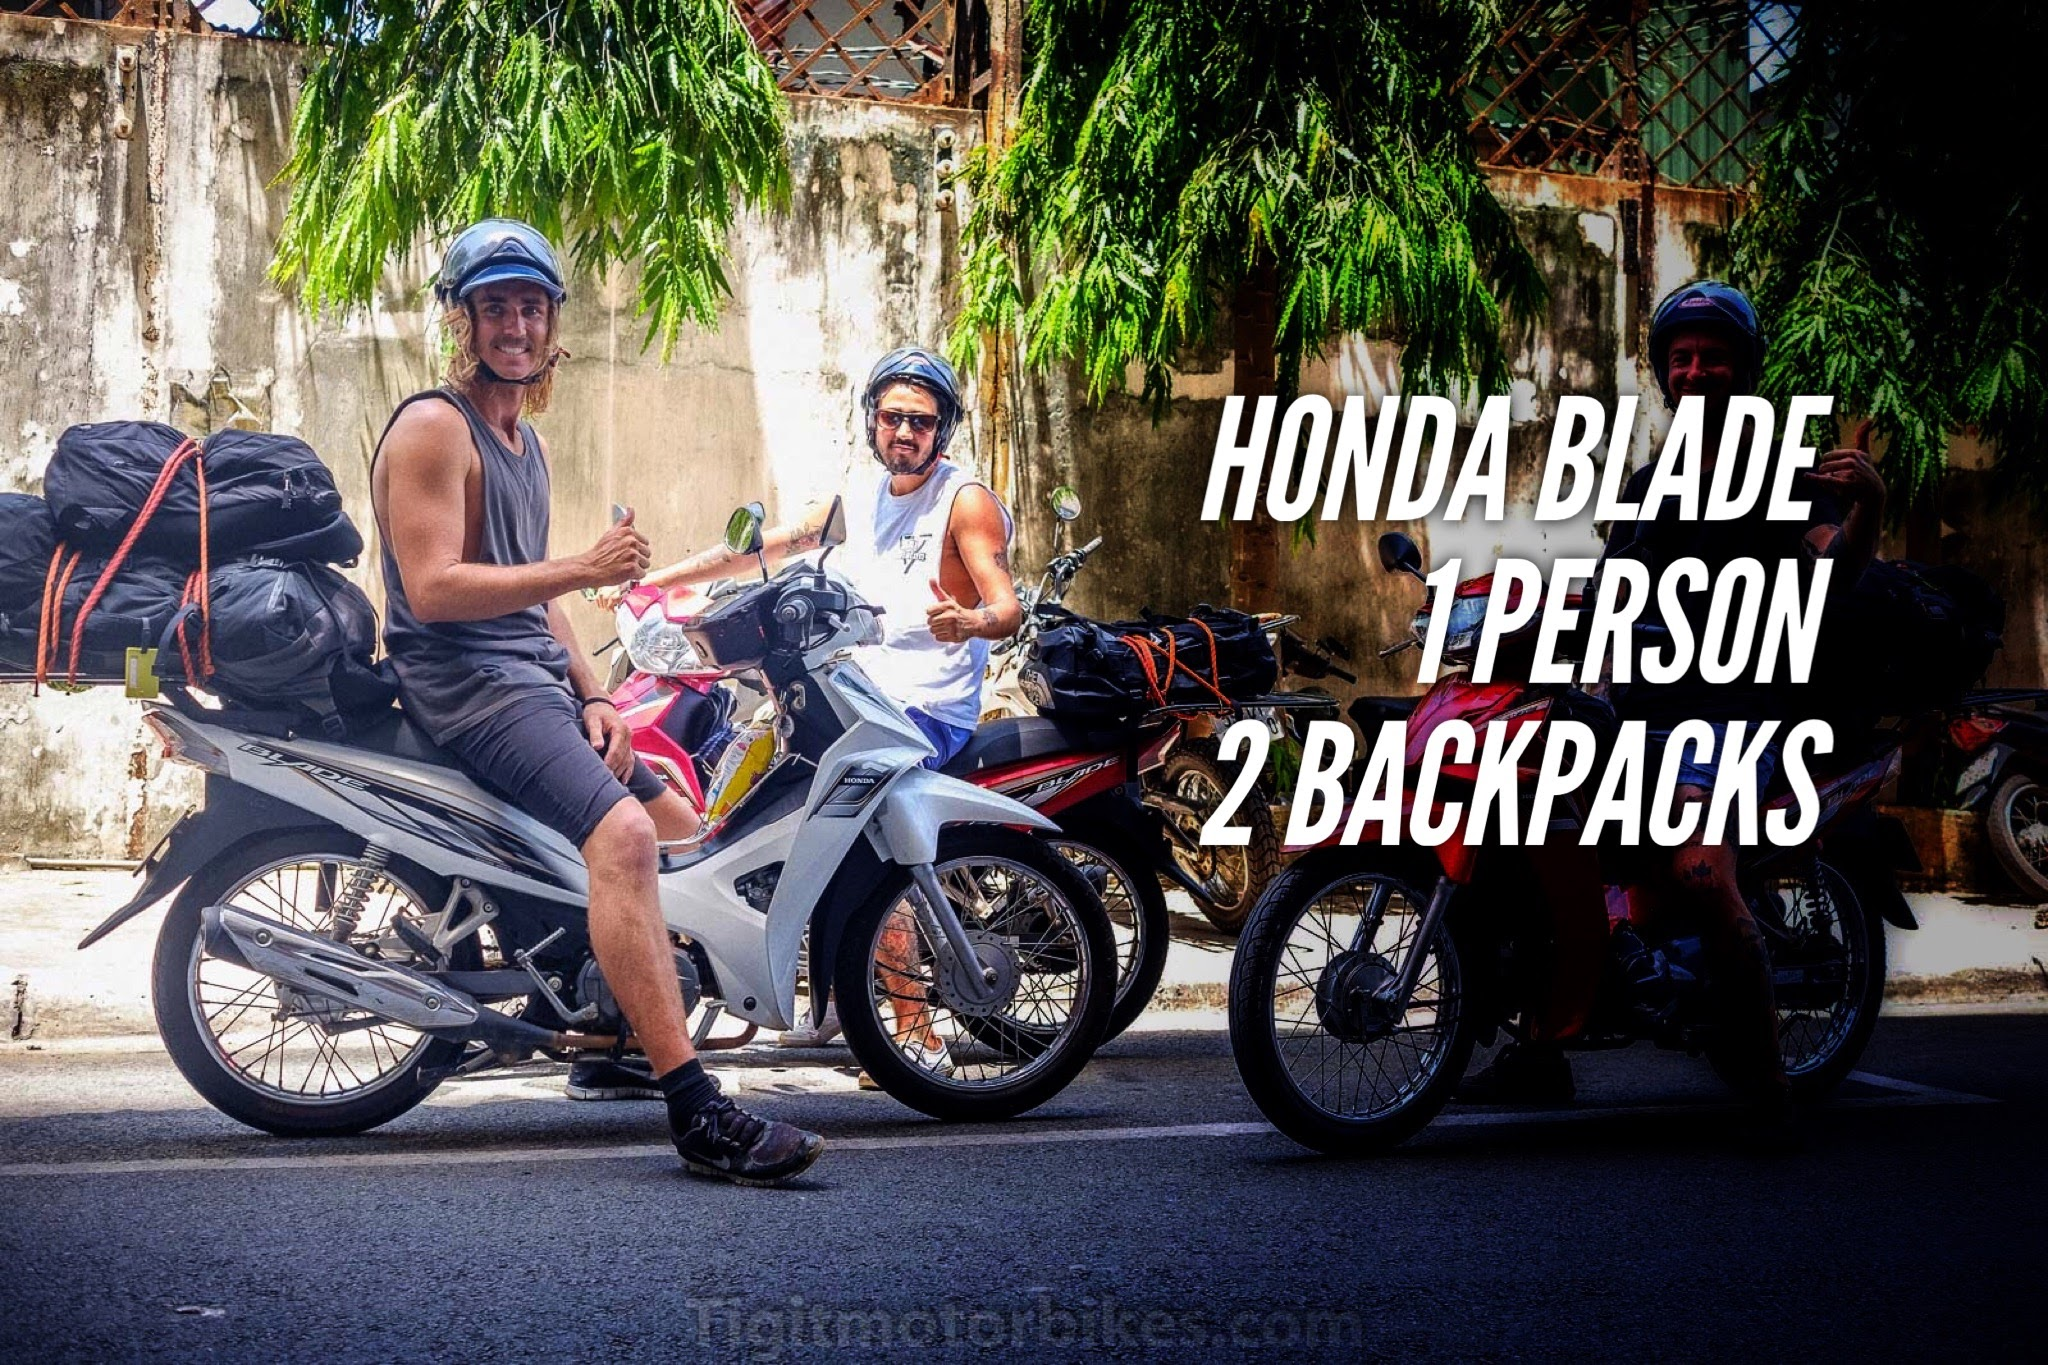helmet: (387, 193, 796, 855), (818, 303, 1061, 768)
